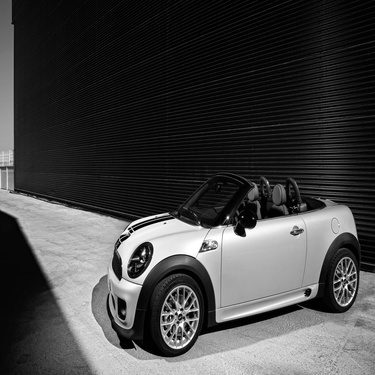car: (107, 163, 365, 346)
